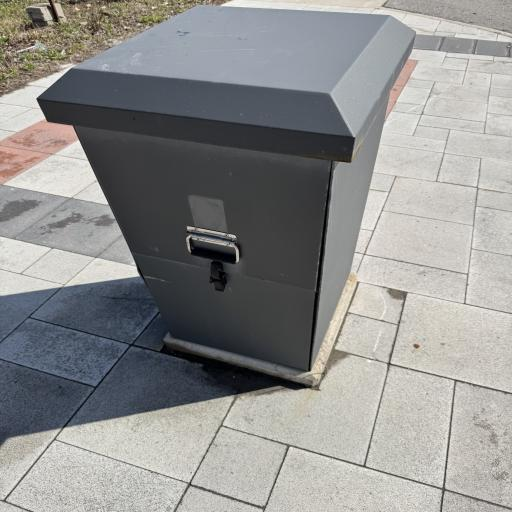Electrical Box: (39, 4, 416, 369)
